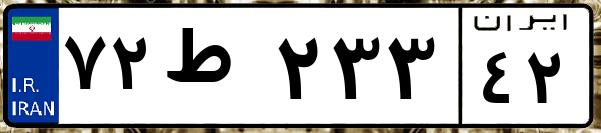2: (270, 28, 330, 110), (525, 38, 570, 115), (110, 28, 158, 98)
3: (385, 28, 445, 110), (330, 28, 385, 110)
4: (475, 38, 525, 113)
7: (57, 26, 110, 100)
ط: (158, 20, 270, 120)
